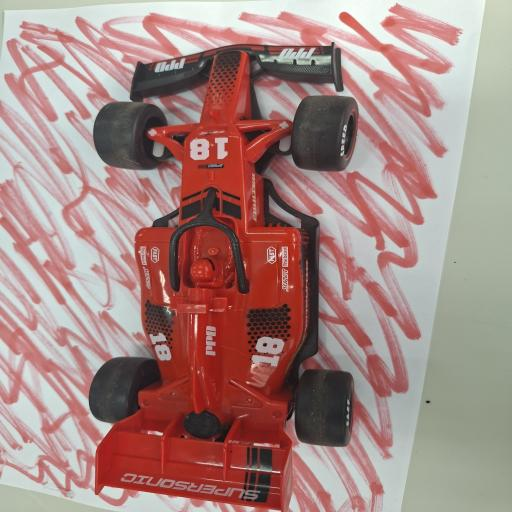carro: (84, 39, 352, 509)
